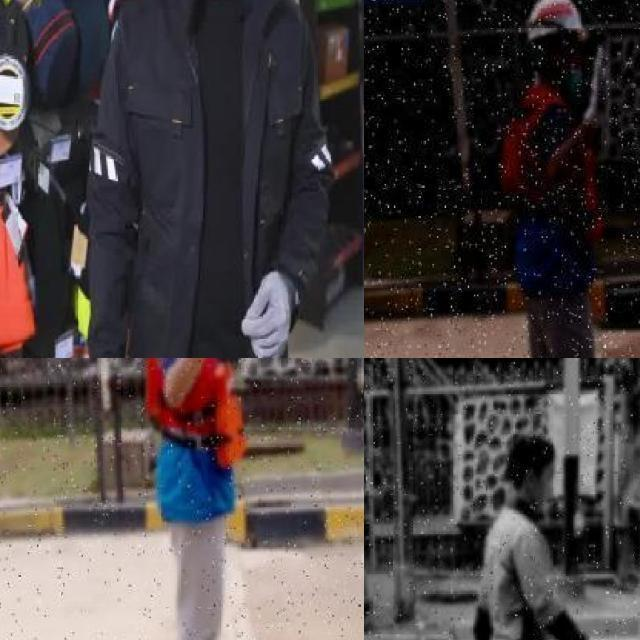apron: (235, 269, 303, 358), (584, 44, 612, 132)
